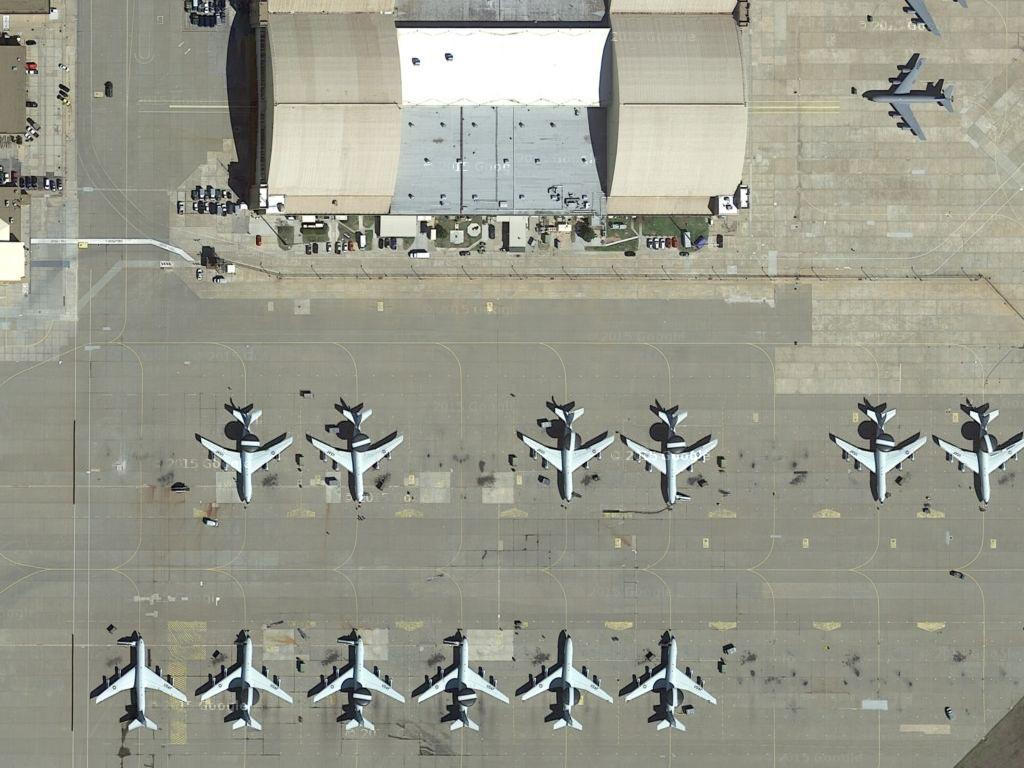E-3: (306, 395, 410, 508), (621, 397, 722, 512), (515, 629, 617, 737), (309, 622, 409, 732), (618, 629, 721, 733), (829, 400, 931, 504), (517, 399, 616, 506), (194, 400, 297, 502), (195, 632, 297, 733), (414, 630, 513, 733), (930, 398, 1020, 505)
E-8: (89, 633, 192, 733)
KC-135: (863, 50, 959, 143)
